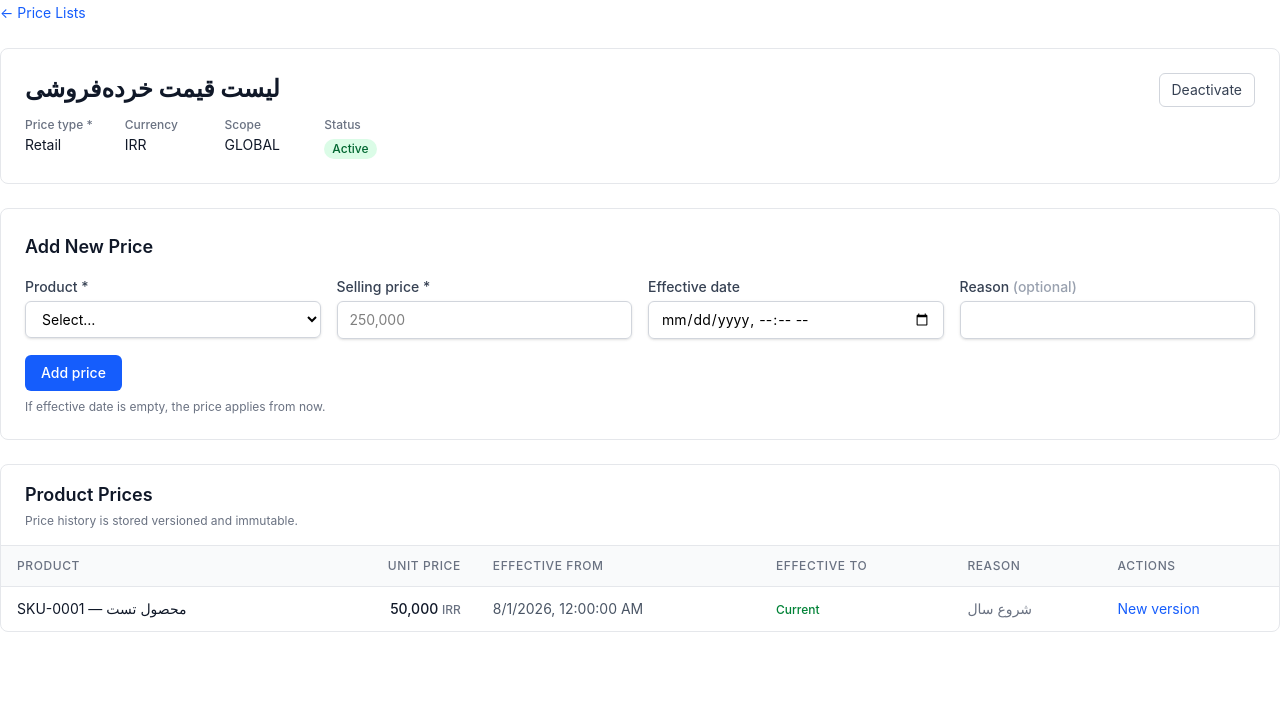
Test: PriceListDetailPage › renders entries and lets the admin open the update-price (new version) form
Expected: the heading "لیست قیمت خرده‌فروشی" is shown, [25,74,280,103]
Expected: the heading "Add New Price" is shown, [25,236,153,257]
Step 1. Click the button "New version" → (1159,609), box [1118,599,1200,619]
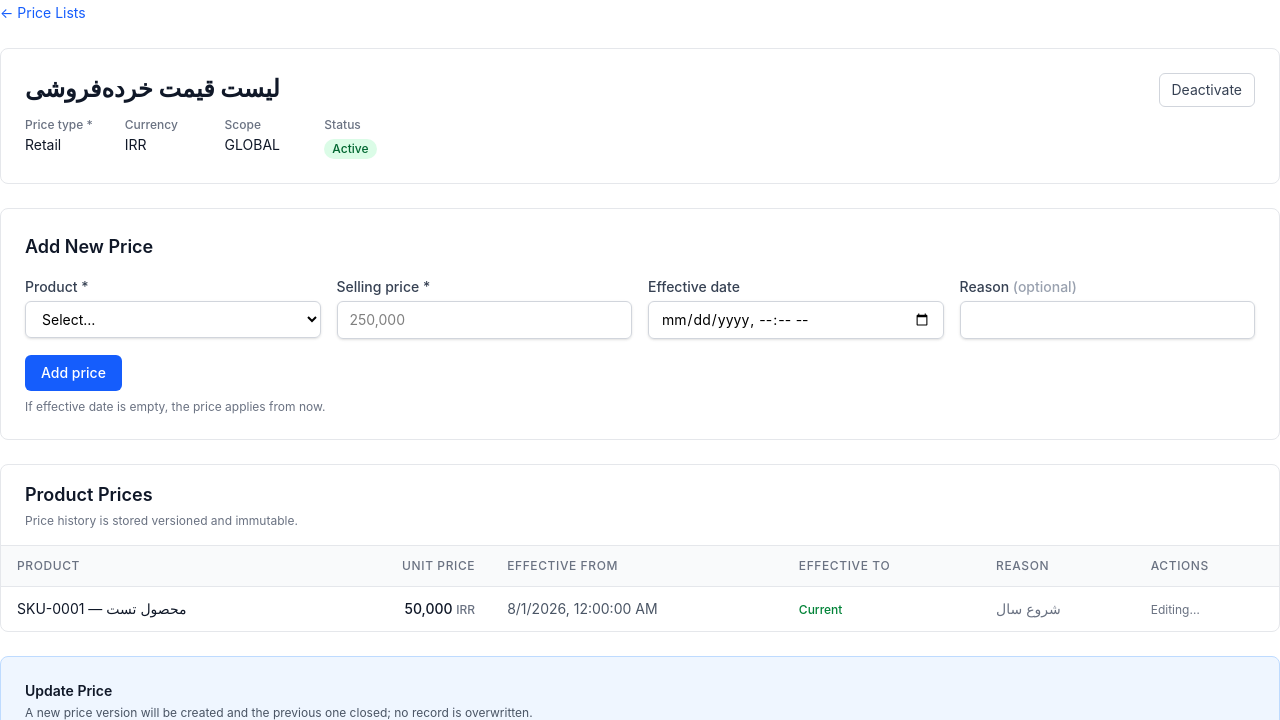
Expected: the heading "Update Price" is shown, [25,682,112,699]
Expected: the text "A new price version will be created" is shown, [25,705,533,719]
